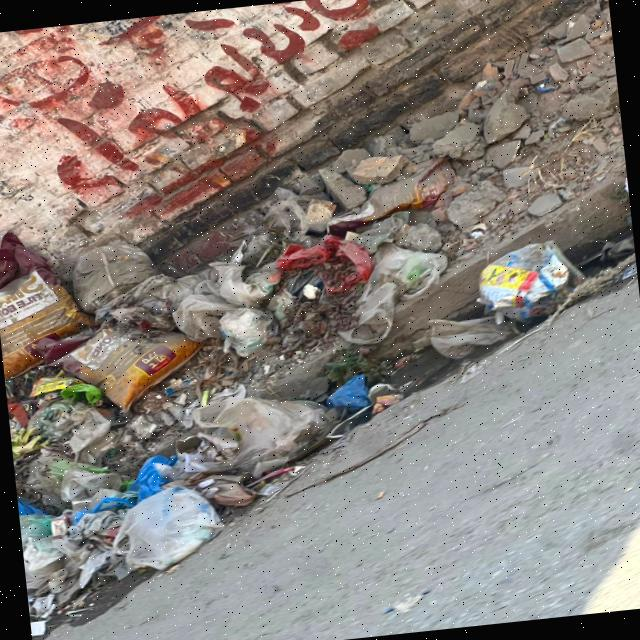garbage: (0, 198, 471, 609)
